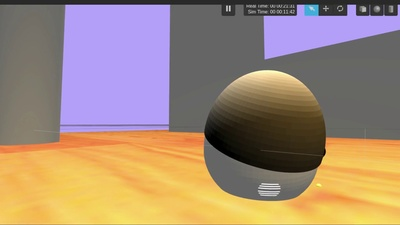mira_robot: (203, 69, 327, 201)
